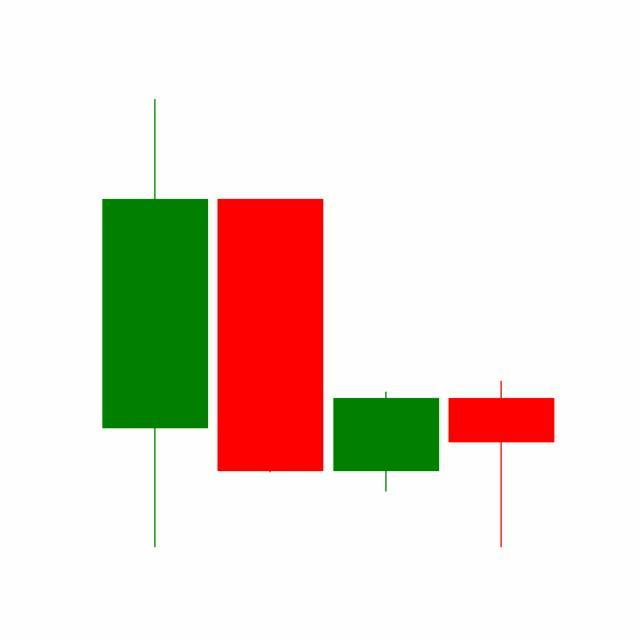Hanging Man: (444, 379, 560, 550)
